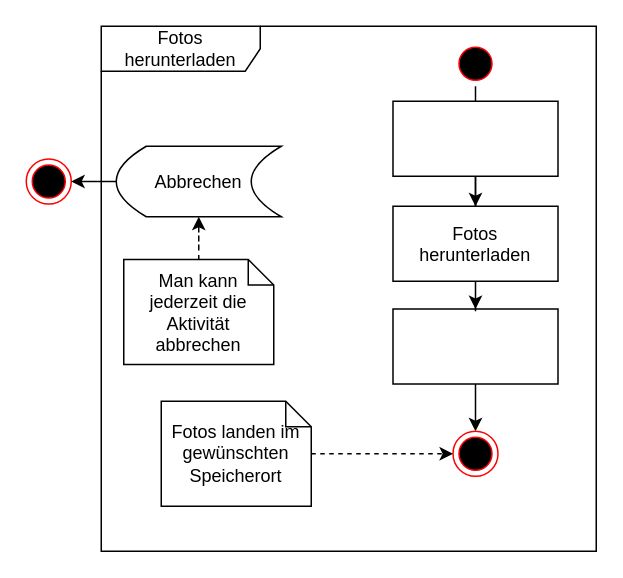
Image size: 623x578. Some labels were removed from this diagram. Here are the shapes that lost their labels. From the top down, the centre of each, then its label:
At (475,138): "UC: Fotos auswählen".
At (475,346): "Speicherort festlegen".
